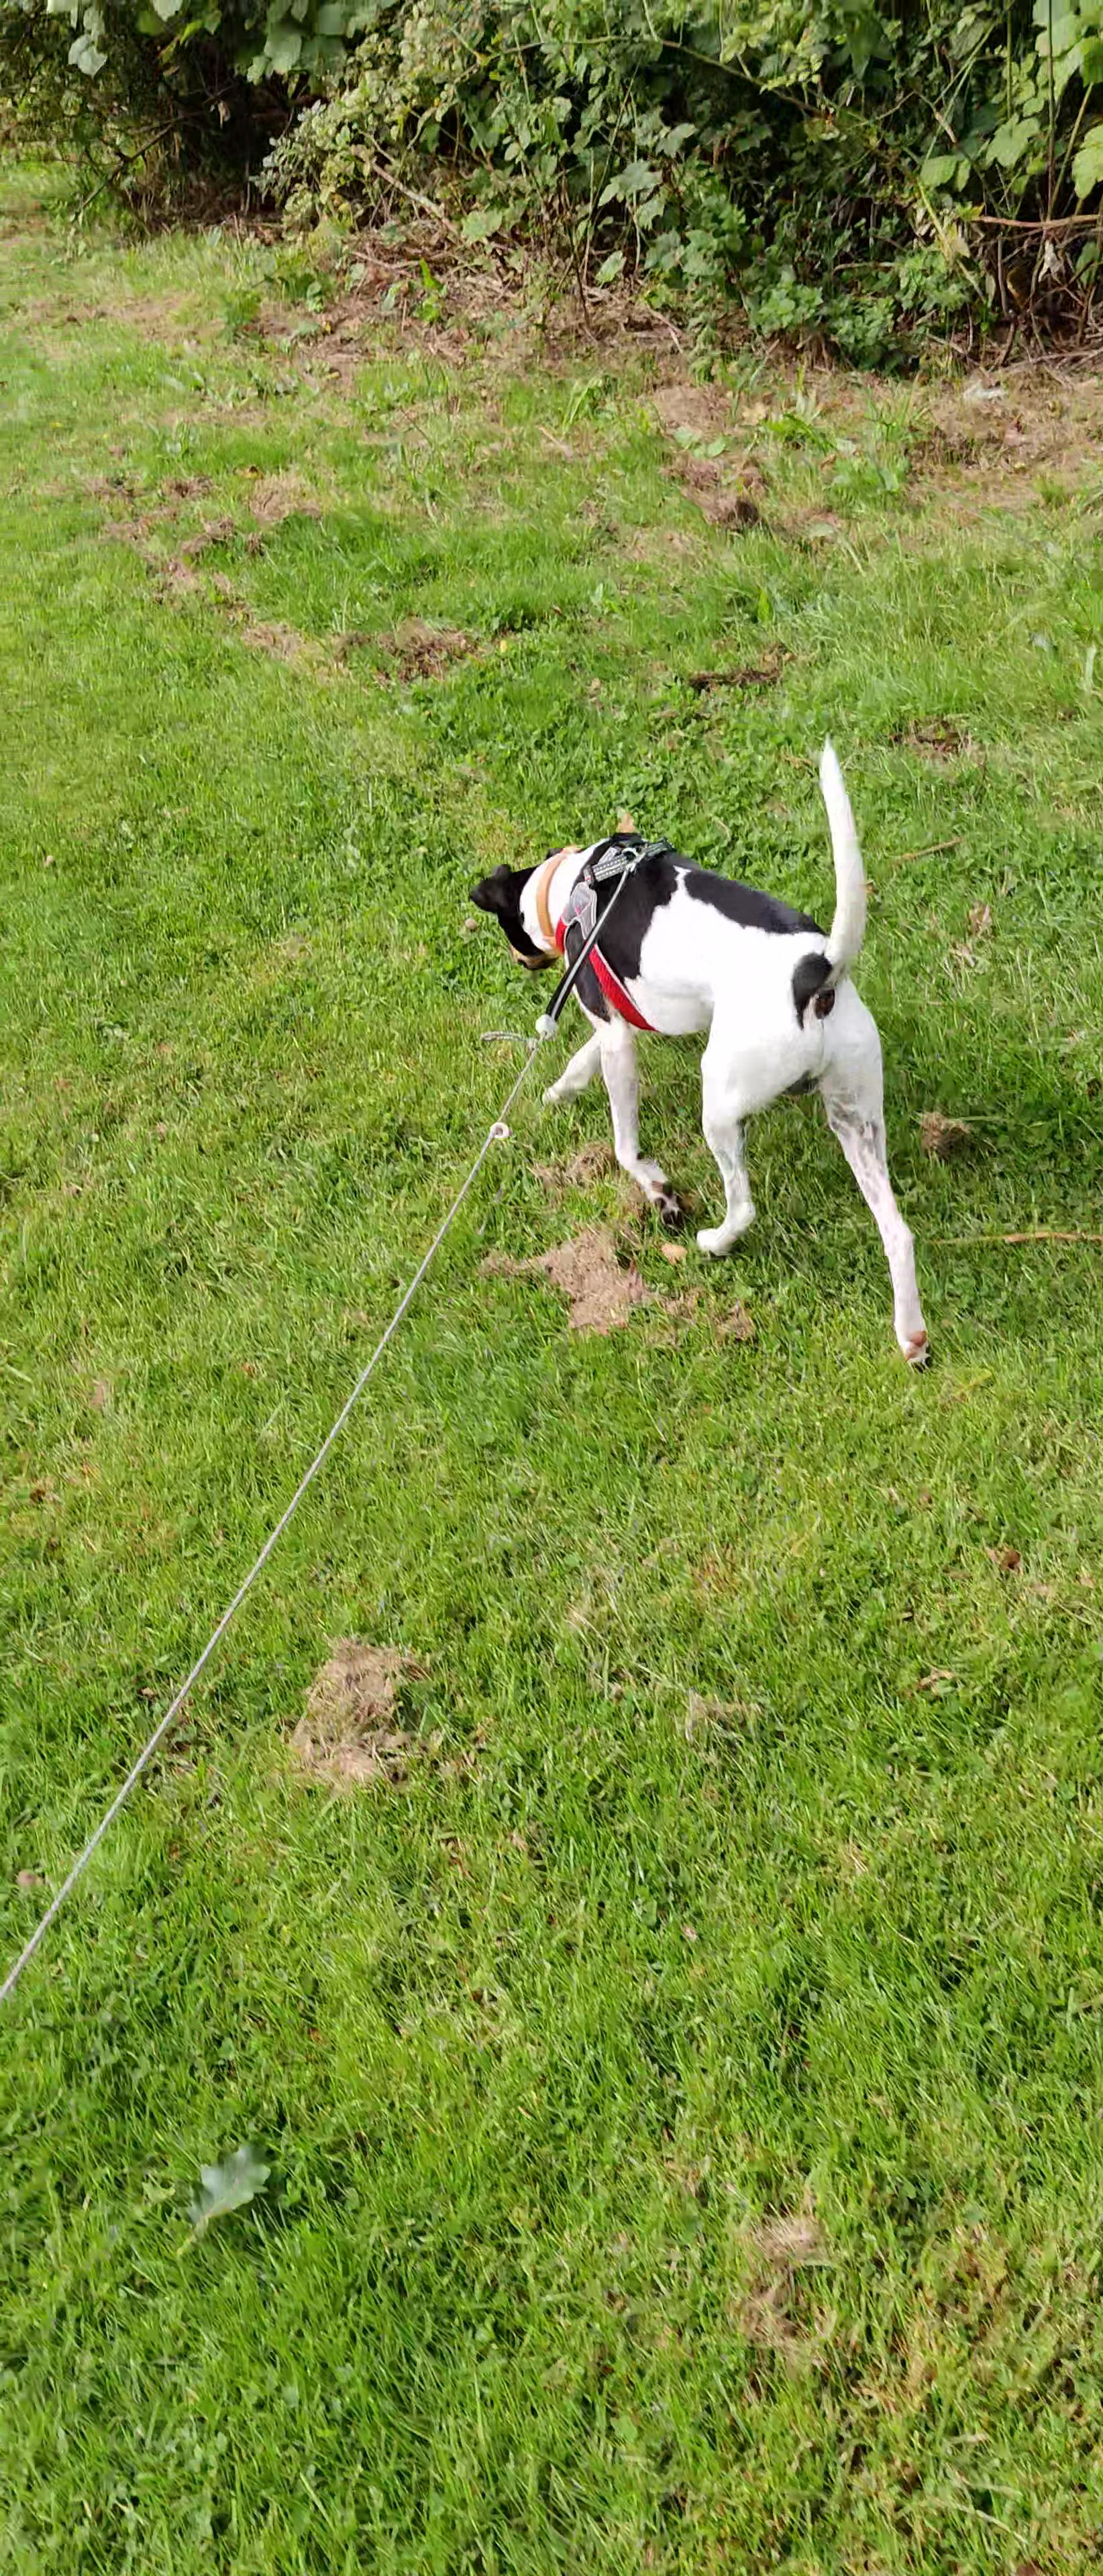Dog: (457, 731, 942, 1377)
